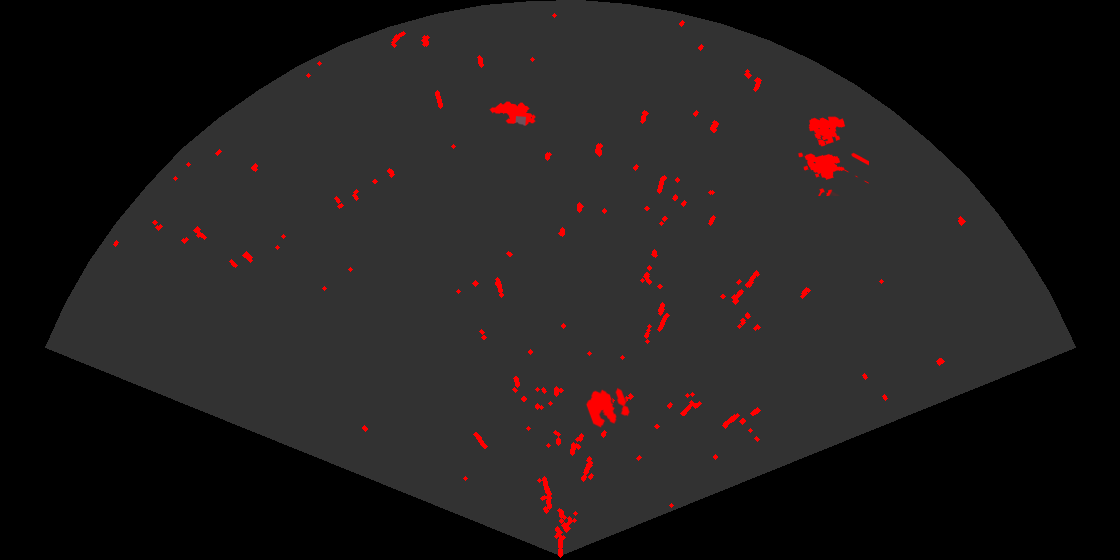AUV: (488, 100, 537, 127)
ball: (584, 386, 631, 429)
cage: (797, 115, 869, 196)
